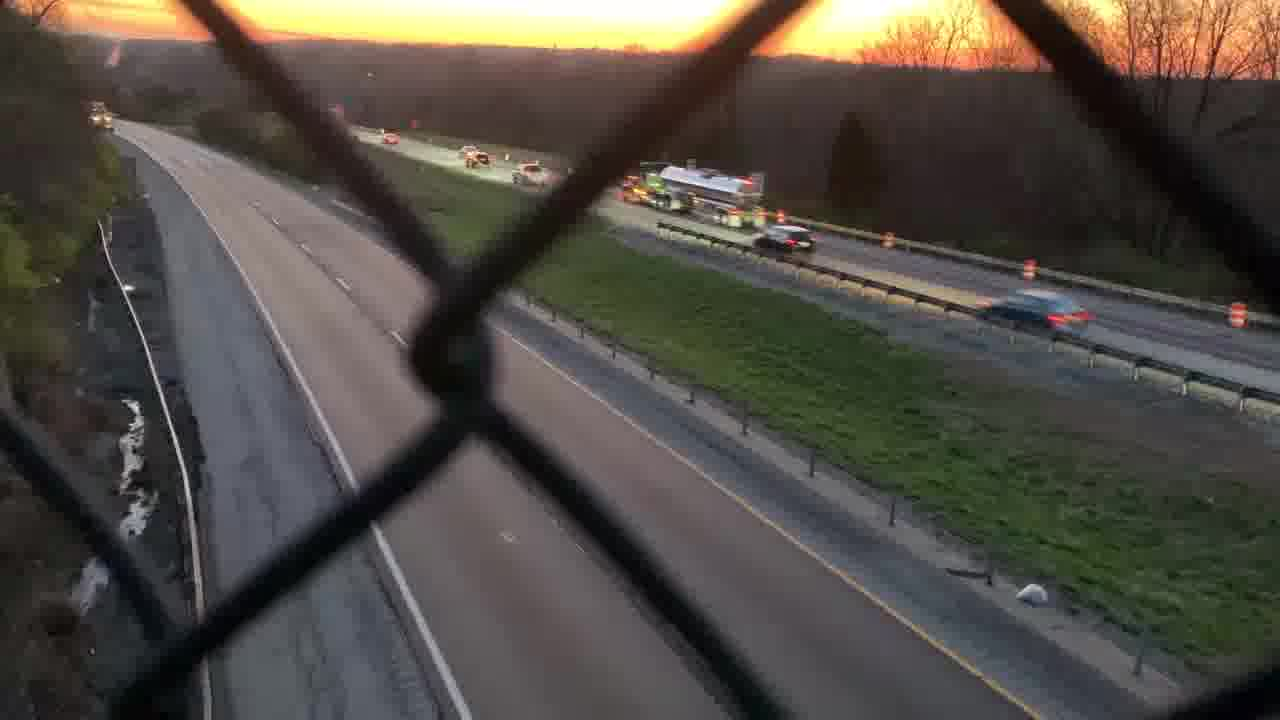heavyTruck: (619, 158, 772, 227)
largeCar: (756, 225, 827, 252)
smallCar: (979, 287, 1091, 333)
